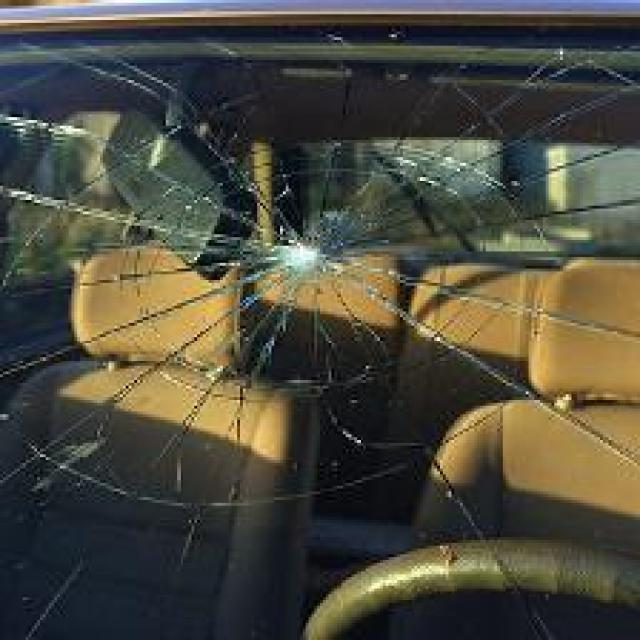damaged: (2, 37, 638, 503)
